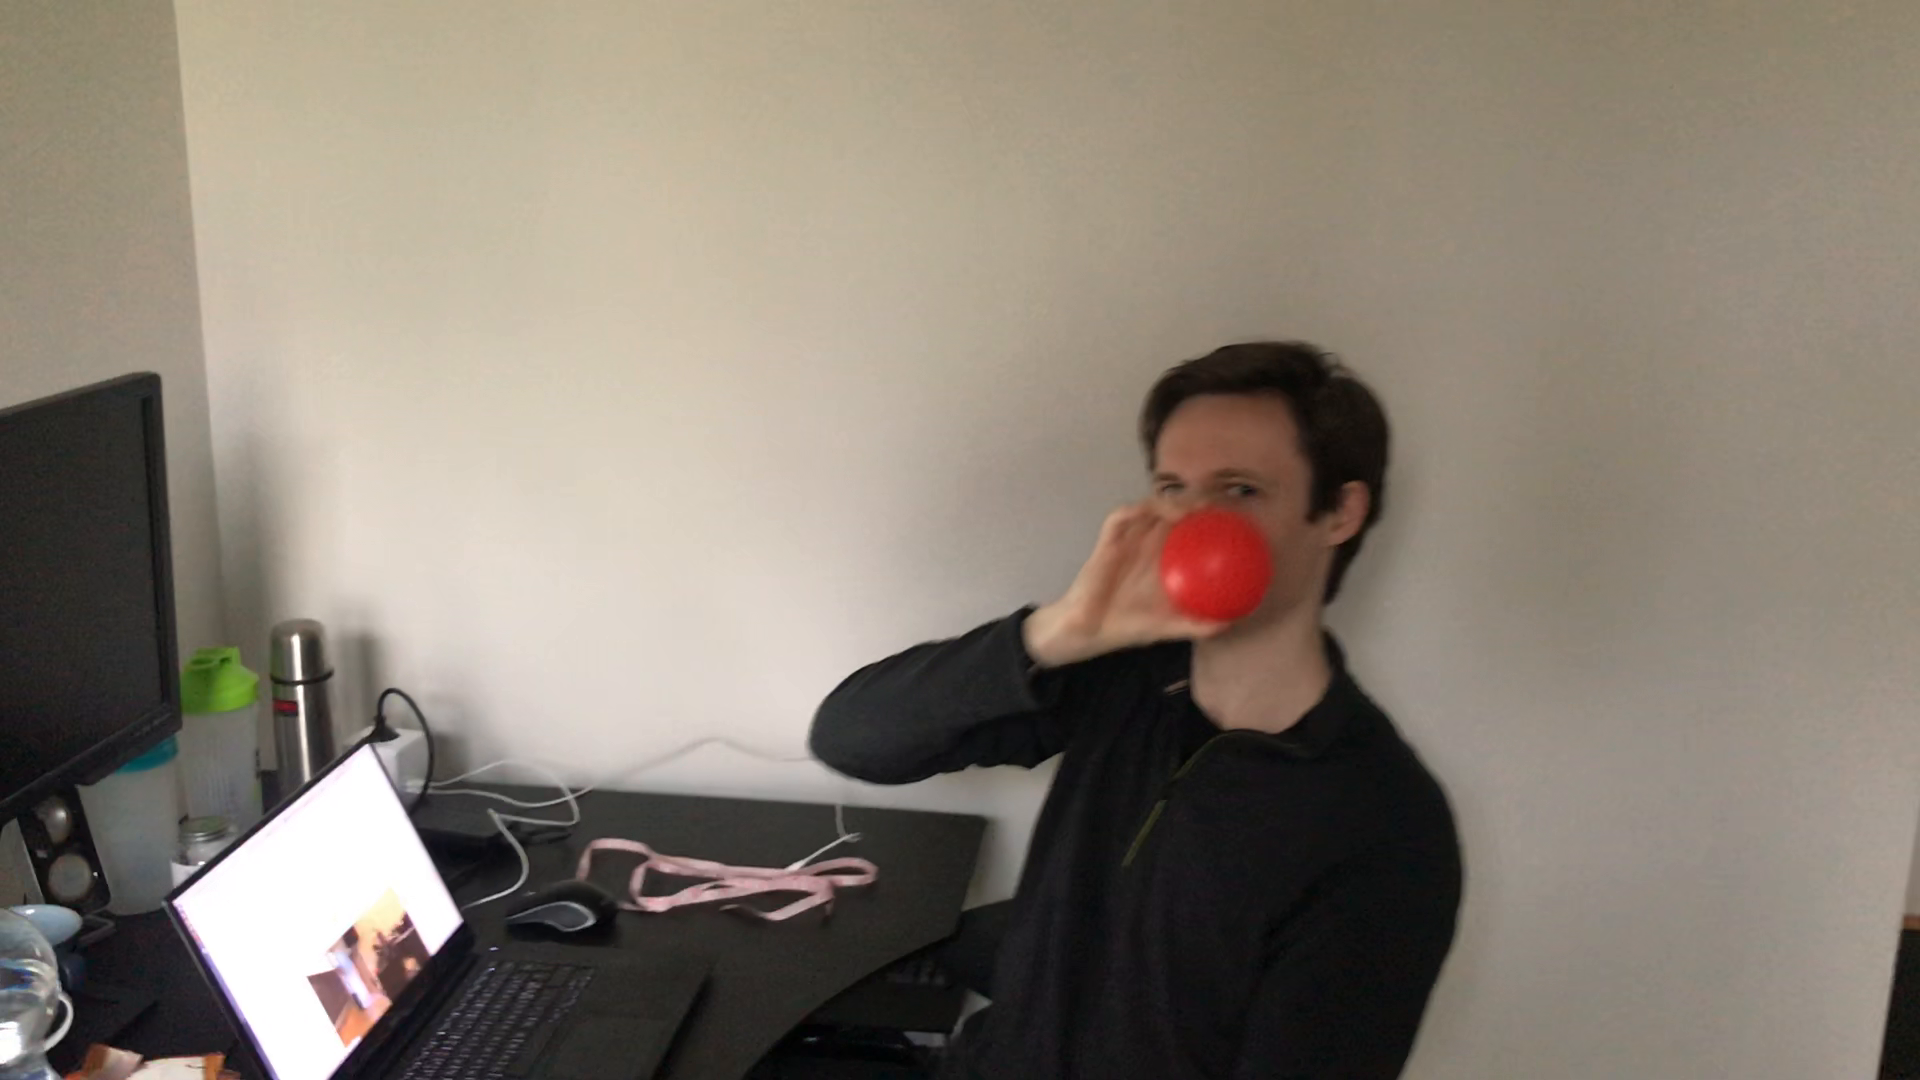Ball: (1160, 513, 1273, 620)
